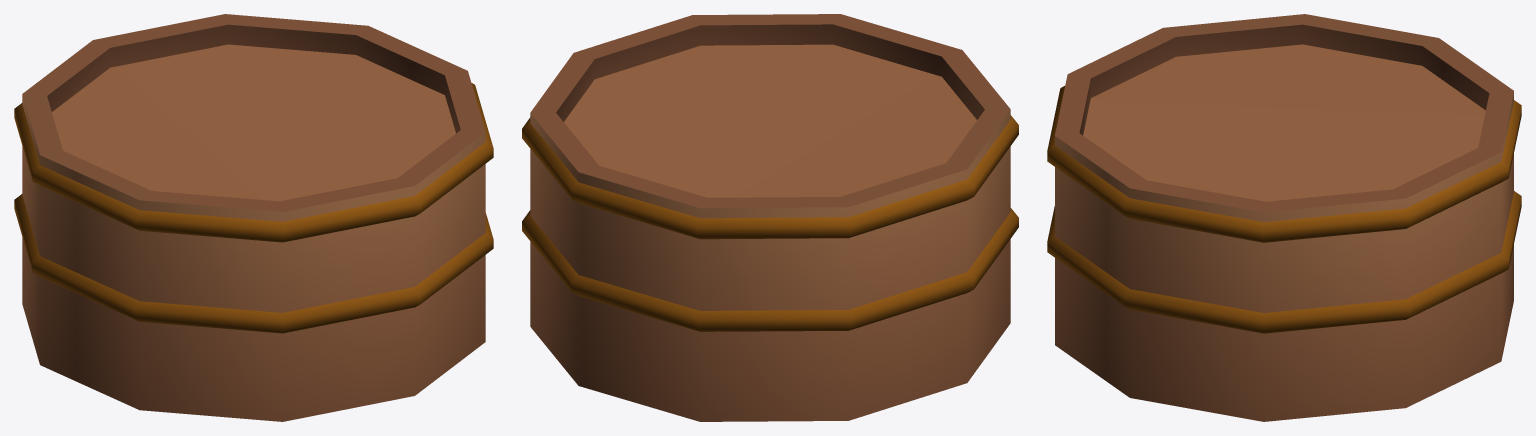
File: SK_Bucket_A_03.FBX
The picture shows the model from 3 angles, left to right: view 1: azimuth 30°, elevation 25°; view 2: azimuth 150°, elevation 25°; view 3: azimuth 270°, elevation 25°; orthographic projection.
Parts seen in each view (by area): view 1: SK_Bucket_A_03; view 2: SK_Bucket_A_03; view 3: SK_Bucket_A_03.
Part boxes in pixels (x1,y1,x2,y2): SK_Bucket_A_03: (14, 14, 493, 421); SK_Bucket_A_03: (522, 14, 1018, 421); SK_Bucket_A_03: (1047, 14, 1521, 421).
Bounding box in the file's own units: 26.16 × 12.46 × 25.58.
